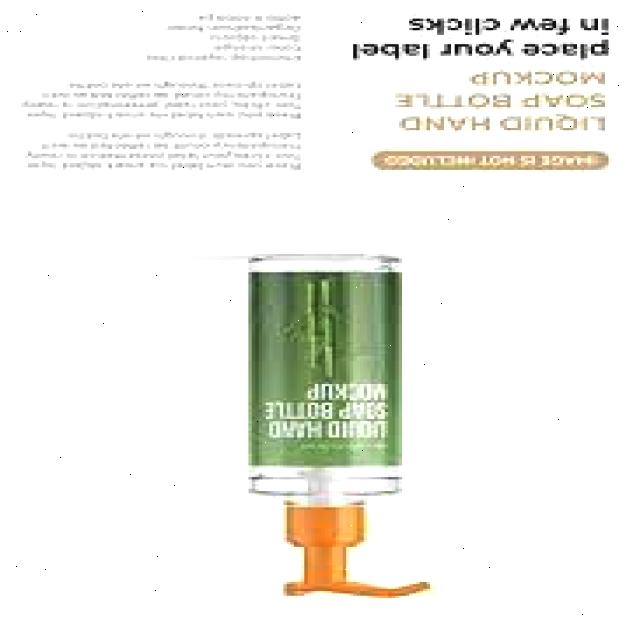liquid soap: (234, 250, 441, 604)
